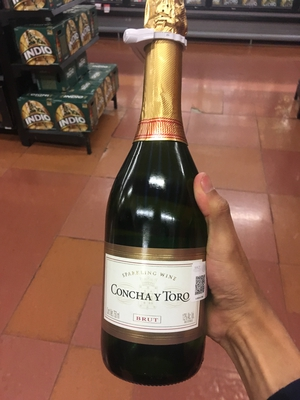brut: (96, 40, 223, 389)
